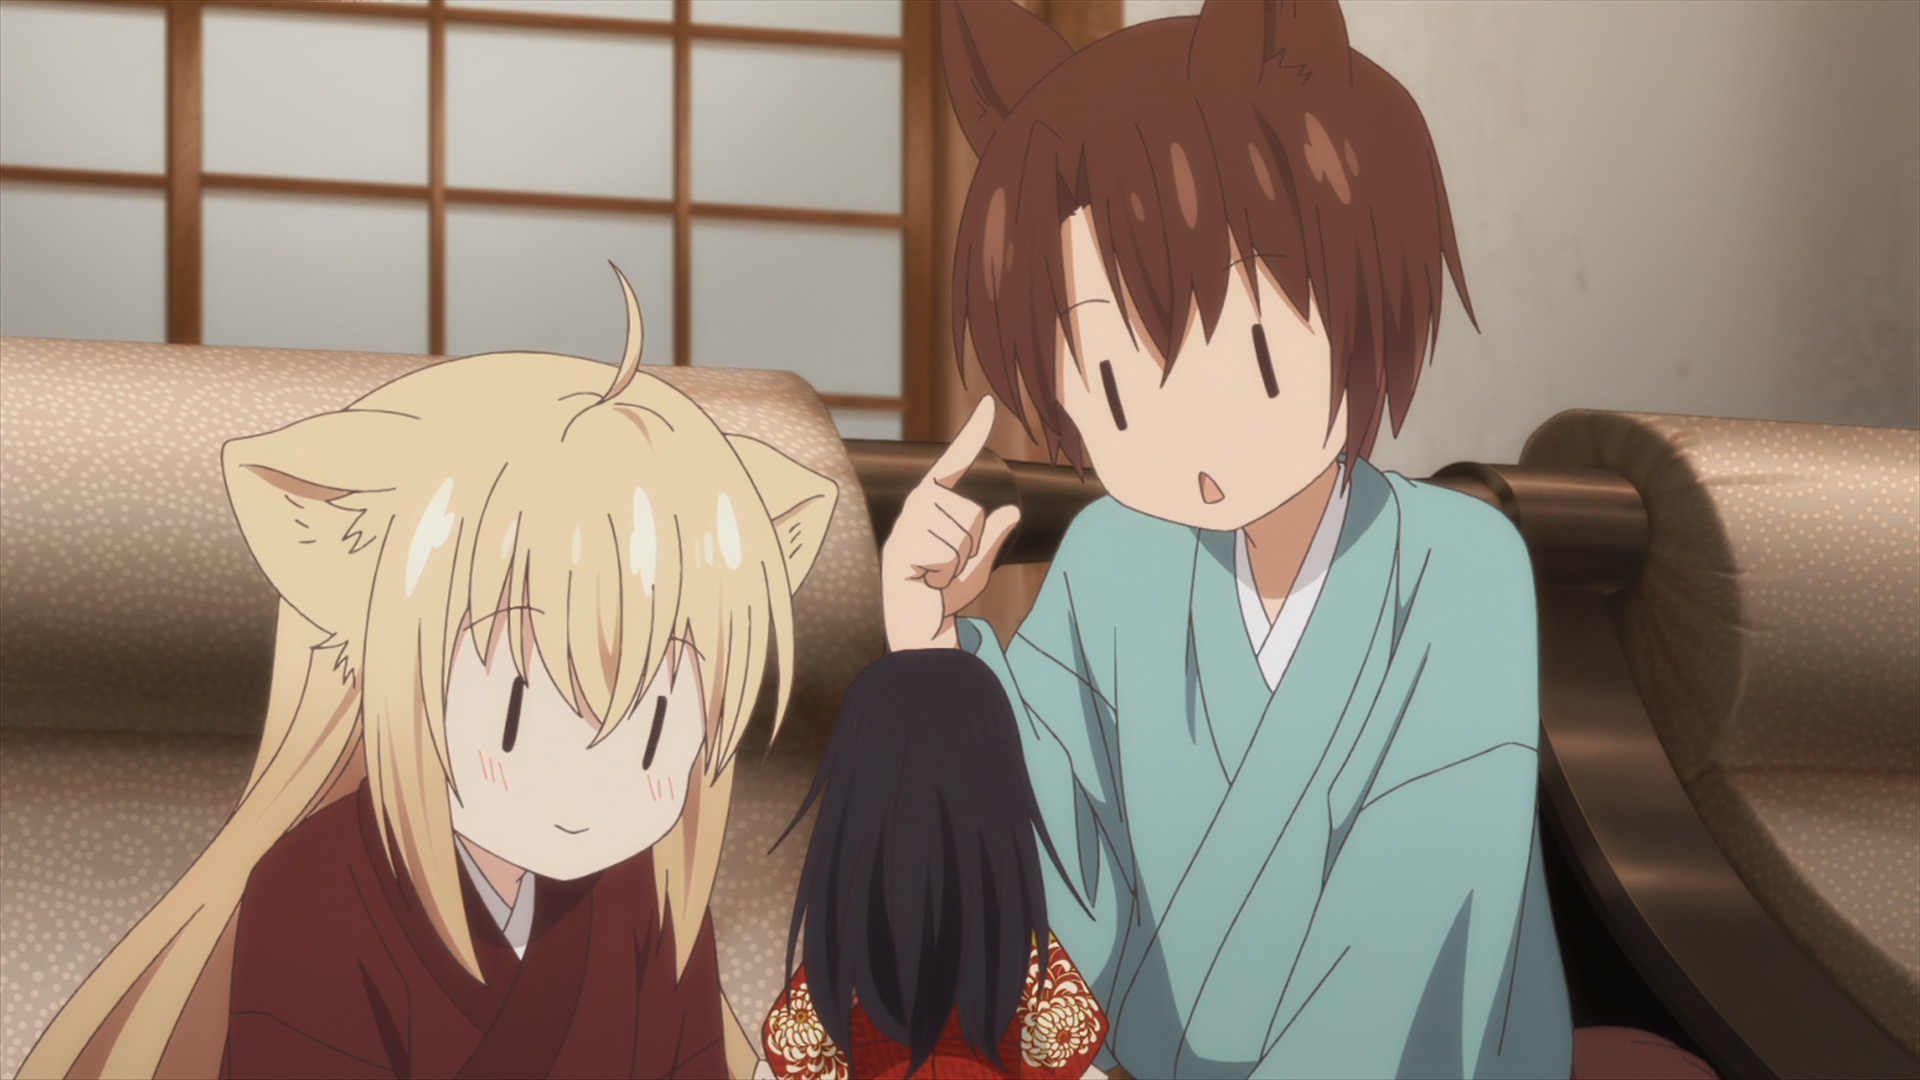枣: (880, 1, 1573, 1080)
柚: (15, 261, 837, 1080)
阿菊: (756, 649, 1110, 1080)
